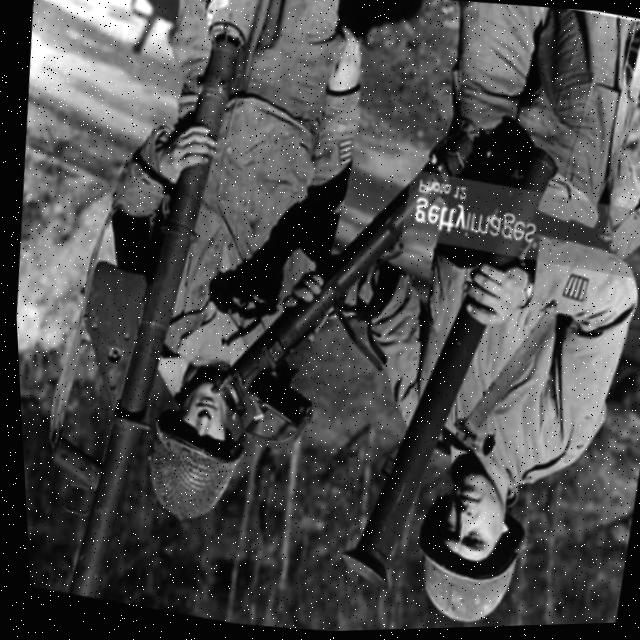rocket: (315, 131, 570, 621)
